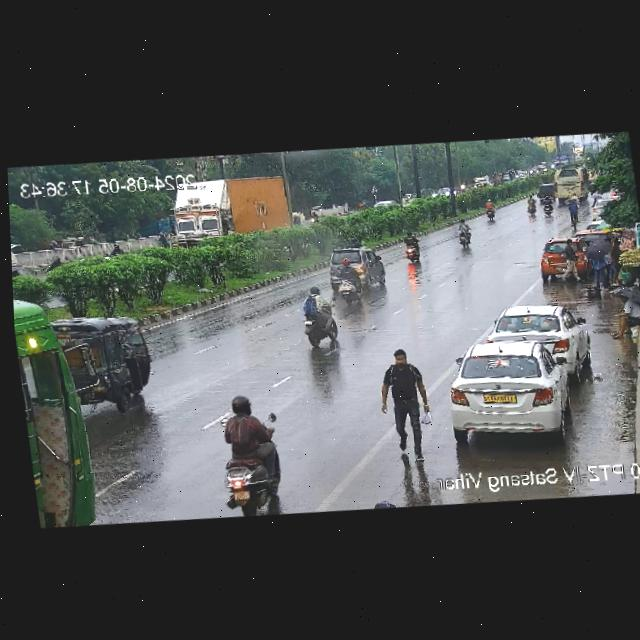bus: (13, 287, 97, 529), (548, 162, 591, 206)
car: (439, 335, 575, 443), (44, 306, 155, 417), (483, 297, 597, 390), (322, 240, 388, 294), (537, 235, 594, 282), (534, 179, 557, 204)
motorcycle: (197, 393, 286, 490), (294, 290, 340, 351), (325, 256, 363, 300), (399, 232, 422, 263), (453, 217, 471, 248), (523, 194, 537, 219), (484, 197, 497, 223), (539, 195, 554, 216), (154, 232, 171, 248), (309, 208, 321, 226)
person: (371, 342, 439, 466), (602, 287, 640, 344), (586, 237, 619, 290), (557, 237, 582, 286)
truck: (161, 168, 304, 253)
